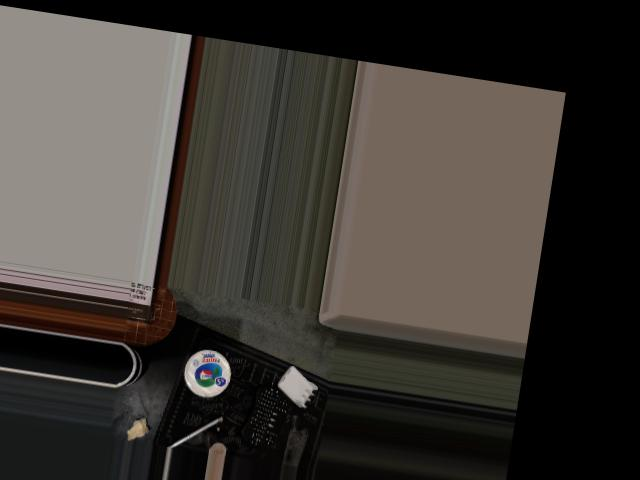cotage: (178, 337, 237, 401)
